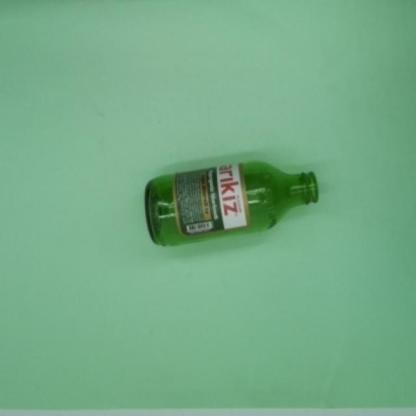Can: (144, 161, 318, 247)
